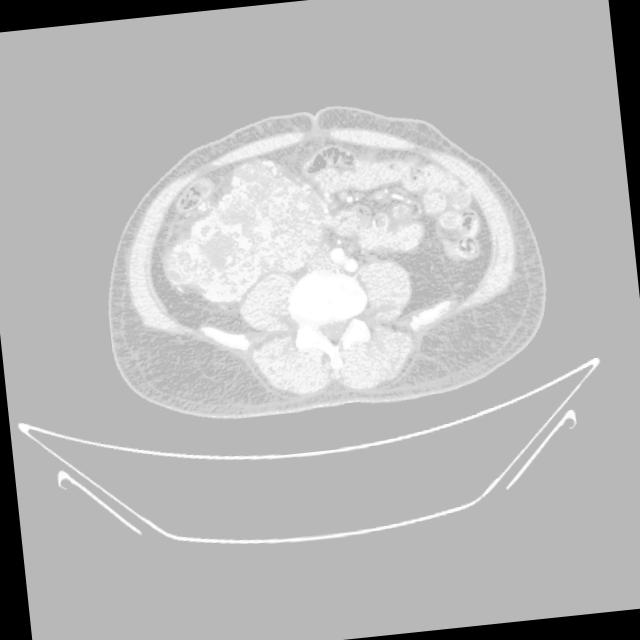TUMOR: (149, 110, 524, 352)
